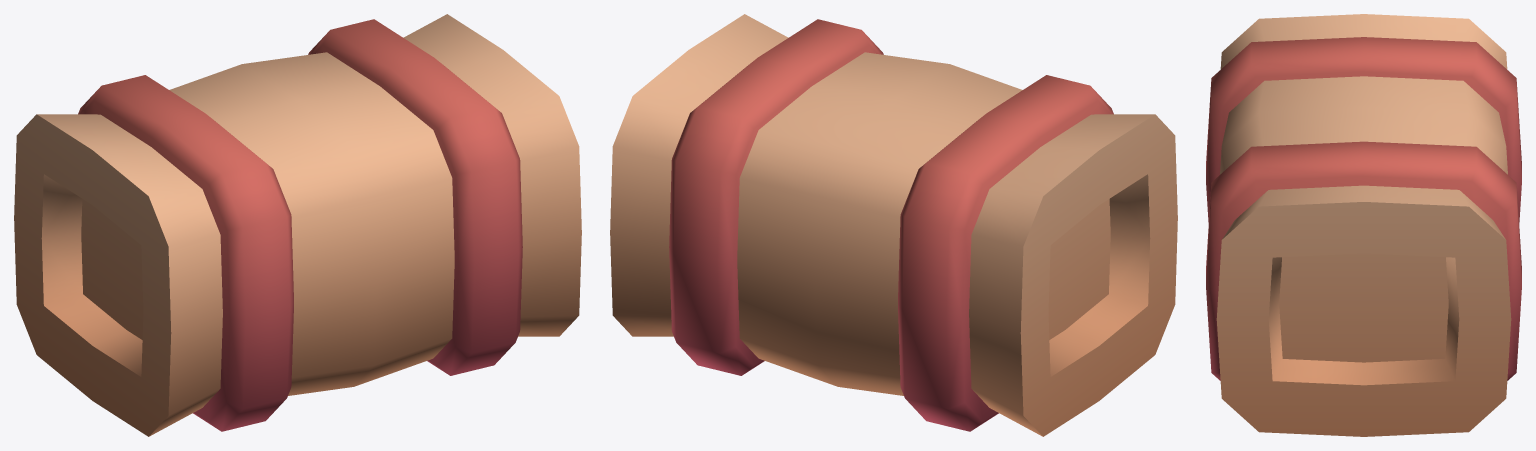
Rendered from hay-bale-bundled.glb.
3 views of the same model, side by side, from view 1: azimuth 30°, elevation 25°; view 2: azimuth 150°, elevation 25°; view 3: azimuth 270°, elevation 25° (orthographic). The views are drawn at different scales.
Visible parts, largest first — view 1: hay-bale-bundled; view 2: hay-bale-bundled; view 3: hay-bale-bundled.
Boxes of the visible parts, left/top/right/bottom form: hay-bale-bundled: left=14, top=14, right=581, bottom=436; hay-bale-bundled: left=610, top=14, right=1177, bottom=436; hay-bale-bundled: left=1206, top=14, right=1521, bottom=436.
Size of the model in its own units: 12.13 by 7.6 by 8.62.
1 material, 1 textured.
